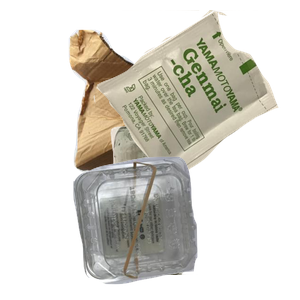cardboard: (66, 27, 242, 197)
glass: (98, 120, 286, 300)
plastic: (71, 154, 300, 300)
trash: (91, 10, 300, 186)
